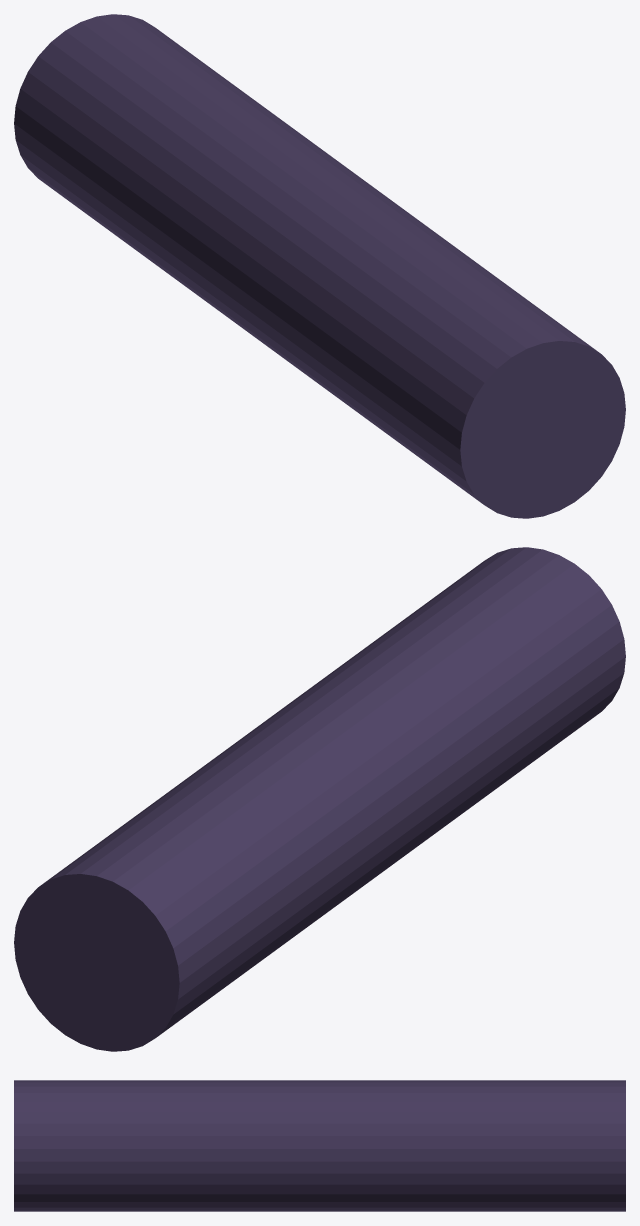
File: CH_CriticalPointBomber_LOD0.glb
3 renders of one model, top to bottom at view 1: azimuth 30°, elevation 25°; view 2: azimuth 150°, elevation 25°; view 3: azimuth 270°, elevation 25°, orthographic. The views are drawn at different scales.
Visible parts, largest first — view 1: Cylinder; view 2: Cylinder; view 3: Cylinder.
Part boxes in pixels (x1,y1,x2,y2): Cylinder: [14, 14, 625, 518]; Cylinder: [14, 547, 625, 1051]; Cylinder: [14, 1080, 625, 1211].
Size of the model in its own units: 0.9 by 0.9 by 4.2.
